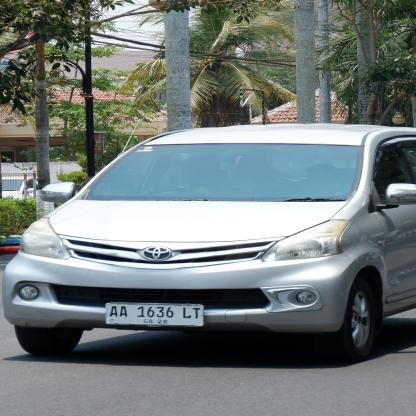Plat-Nomor: (103, 302, 206, 328)
